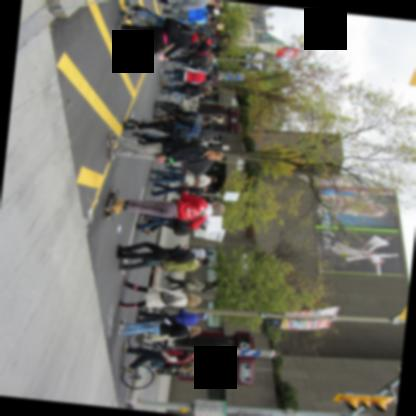backpack: (170, 123, 199, 138), (163, 356, 189, 371), (180, 85, 198, 95), (172, 227, 190, 236), (187, 187, 201, 195)
handbag: (163, 17, 192, 38), (145, 330, 188, 342), (158, 291, 186, 306), (180, 213, 204, 223)
